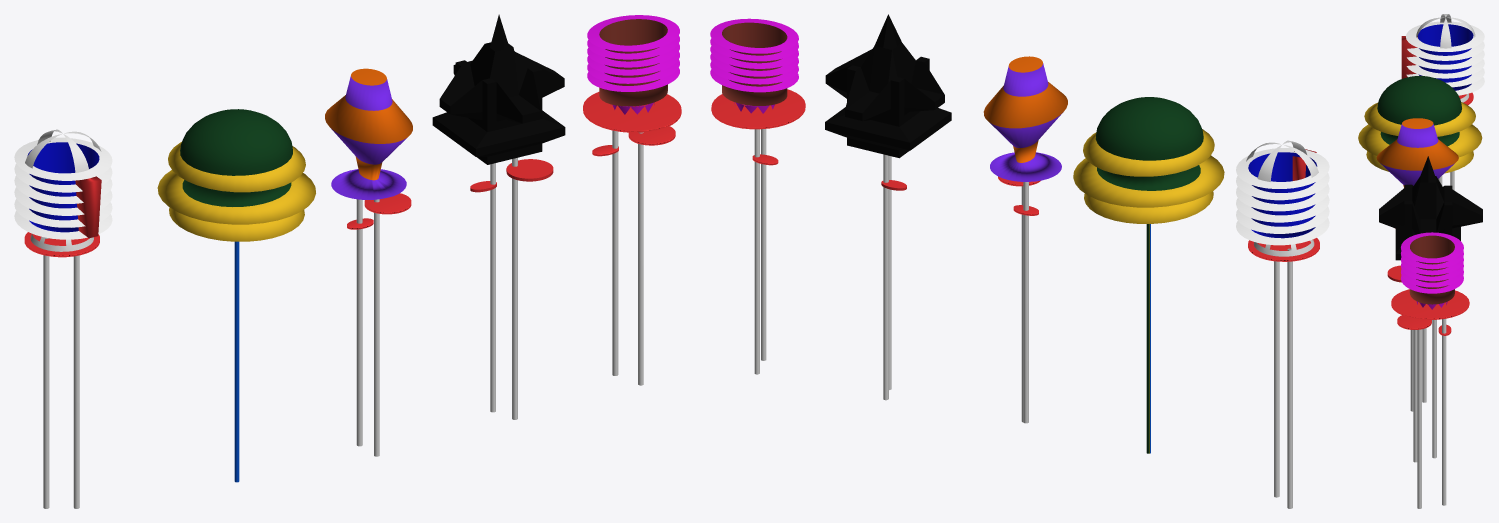
Rendered from sheila.fbx.
3 renders of one model, left to right at view 1: azimuth 30°, elevation 25°; view 2: azimuth 150°, elevation 25°; view 3: azimuth 270°, elevation 25°, orthographic. The views are drawn at different scales.
Parts seen in each view (by area): view 1: Cylinder.010, Cube.001, Cylinder.002, Cylinder.019, Cylinder.007, Sphere, Cylinder.018, Cylinder.001, Cylinder.020, Cylinder.005, Cylinder.015, Cylinder.009 (+7 smaller); view 2: Cube.001, Cylinder.010, Cylinder.002, Cylinder.019, Cylinder.007, Sphere, Cylinder.018, Cylinder.001, Cylinder.015, Cylinder.011, Cylinder.005, Cylinder.020 (+4 smaller); view 3: Cube.001, Cylinder.002, Cylinder.019, Sphere, Cylinder.007, Cylinder.010, Cylinder.018, Cylinder.015, Cylinder.014, Cylinder.011, Cylinder.009, Sphere.001 (+5 smaller).
Part boxes in pixels (x1,y1,x2,y2): Cylinder.010: (157, 142, 315, 482); Cube.001: (432, 14, 565, 164); Cylinder.002: (14, 137, 112, 239); Cylinder.019: (587, 15, 679, 106); Cylinder.007: (325, 68, 412, 199); Sphere: (180, 109, 292, 175); Cylinder.018: (583, 92, 681, 132); Cylinder.001: (43, 237, 49, 508); Cylinder.020: (73, 239, 79, 508); Cylinder.005: (356, 199, 362, 446); Cylinder.015: (612, 130, 618, 375); Cylinder.009: (512, 157, 517, 419); Cube.001: (825, 14, 951, 158); Cylinder.010: (1073, 129, 1224, 453); Cylinder.002: (1236, 148, 1329, 245); Cylinder.019: (710, 18, 798, 106); Cylinder.007: (983, 56, 1067, 181); Sphere: (1095, 97, 1203, 160); Cylinder.018: (711, 89, 805, 129); Cylinder.001: (1287, 248, 1292, 508); Cylinder.015: (754, 129, 759, 374); Cylinder.011: (883, 154, 888, 400); Cylinder.005: (1023, 182, 1028, 423); Cylinder.020: (1274, 261, 1279, 497); Cube.001: (1379, 156, 1482, 260); Cylinder.002: (1406, 21, 1484, 95); Cylinder.019: (1401, 232, 1463, 304); Sphere: (1377, 76, 1461, 125); Cylinder.007: (1376, 118, 1458, 187); Cylinder.010: (1358, 102, 1482, 173); Cylinder.018: (1391, 289, 1469, 319); Cylinder.015: (1442, 319, 1446, 505); Cylinder.014: (1417, 329, 1421, 508); Cylinder.011: (1432, 320, 1436, 458); Cylinder.009: (1413, 330, 1417, 462); Sphere.001: (1416, 14, 1475, 48).
Bounding box in the file's own units: 18736 × 11154 × 4217.
